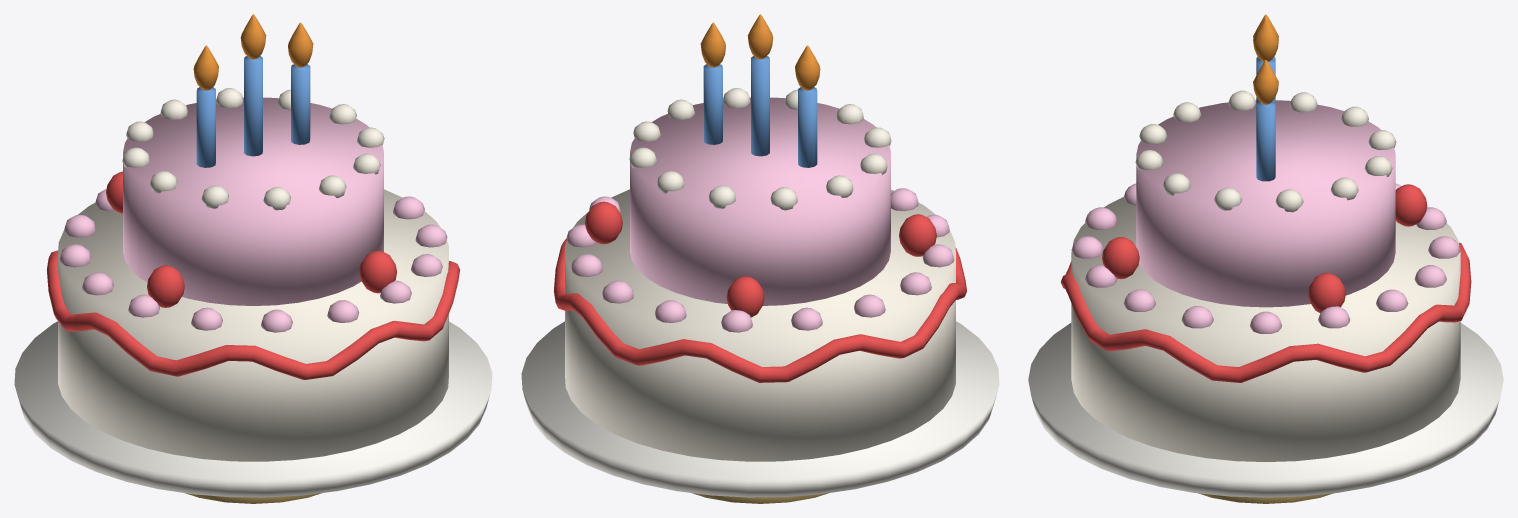
The model's file is birthday-cake.glb.
The picture shows the model from 3 angles, left to right: view 1: azimuth 30°, elevation 25°; view 2: azimuth 150°, elevation 25°; view 3: azimuth 270°, elevation 25°; orthographic projection.
Visible parts, largest first — view 1: cake, flame; view 2: cake, flame; view 3: cake, flame.
Boxes of the visible parts, x1,y1,x2,y2 form: cake: [14, 56, 492, 503]; flame: [193, 14, 313, 90]; cake: [521, 56, 999, 503]; flame: [700, 14, 820, 90]; cake: [1028, 56, 1503, 503]; flame: [1253, 14, 1278, 104].
Bounding box in the file's own units: 0.88 × 0.9006 × 0.88.
